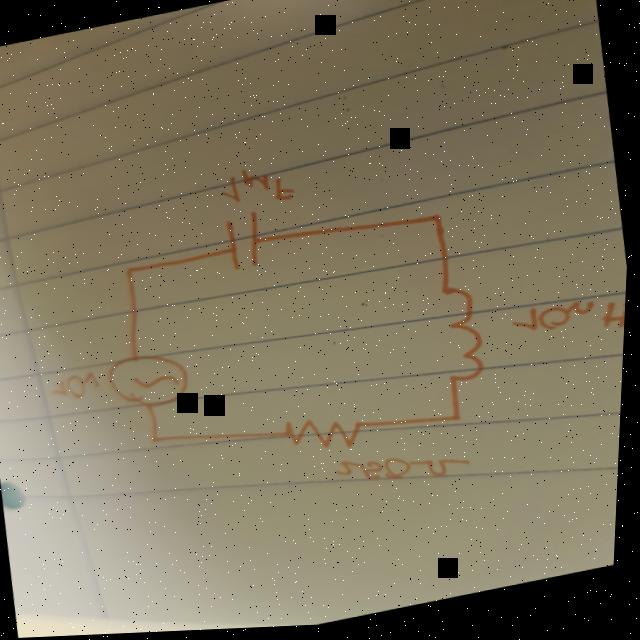capacitor: (218, 208, 271, 278)
inductor: (432, 283, 495, 390)
junction: (444, 410, 475, 431), (424, 215, 449, 236), (152, 431, 174, 451), (121, 265, 146, 282)
resistor: (282, 408, 377, 464)
source: (106, 344, 198, 417)
text: (340, 440, 480, 500), (512, 294, 629, 353), (219, 160, 299, 216), (47, 366, 110, 409)
